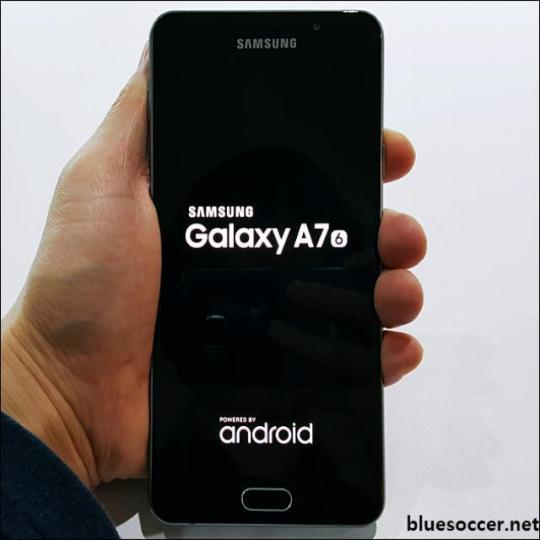phone: (148, 11, 385, 527)
